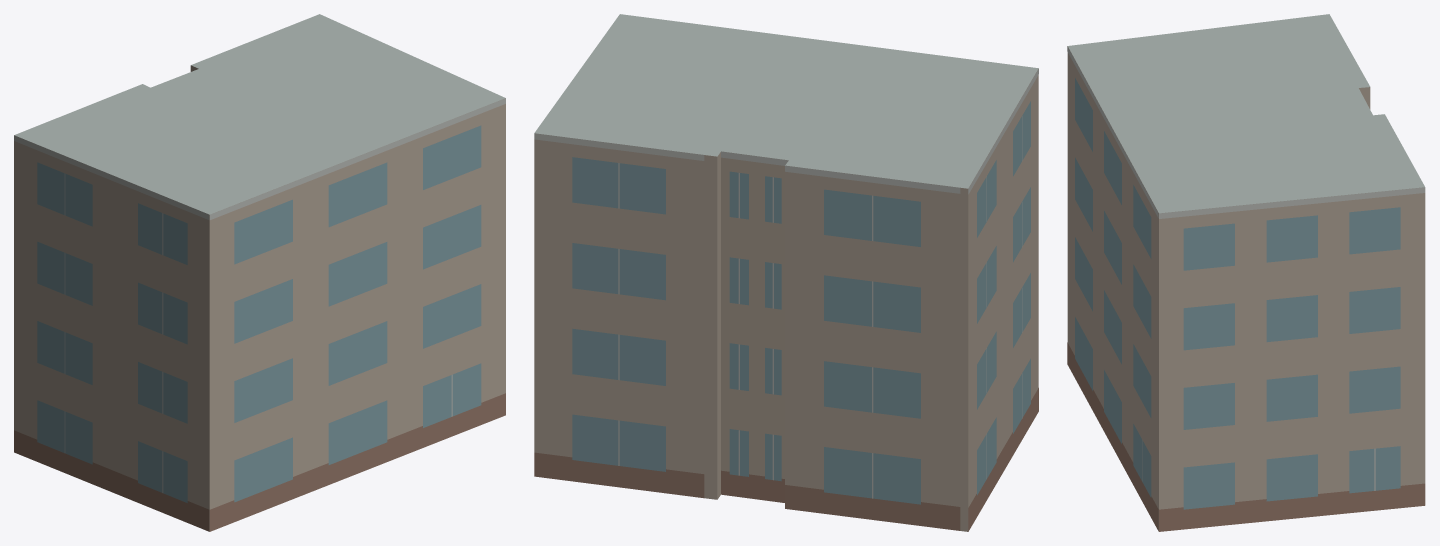
File: survey-upis-32941383.glb
3 views of the same model, side by side, from view 1: azimuth 30°, elevation 25°; view 2: azimuth 150°, elevation 25°; view 3: azimuth 270°, elevation 25° (orthographic). The views are drawn at different scales.
Parts seen in each view (by area): view 1: survey-upis-32941383.tmp; view 2: survey-upis-32941383.tmp; view 3: survey-upis-32941383.tmp.
Boxes of the visible parts, box(x1,y1,x2,y2) form: survey-upis-32941383.tmp: box(14, 14, 505, 531); survey-upis-32941383.tmp: box(534, 14, 1038, 531); survey-upis-32941383.tmp: box(1067, 14, 1425, 531).
Bounding box in the file's own units: 18.2 × 13.55 × 13.8.
